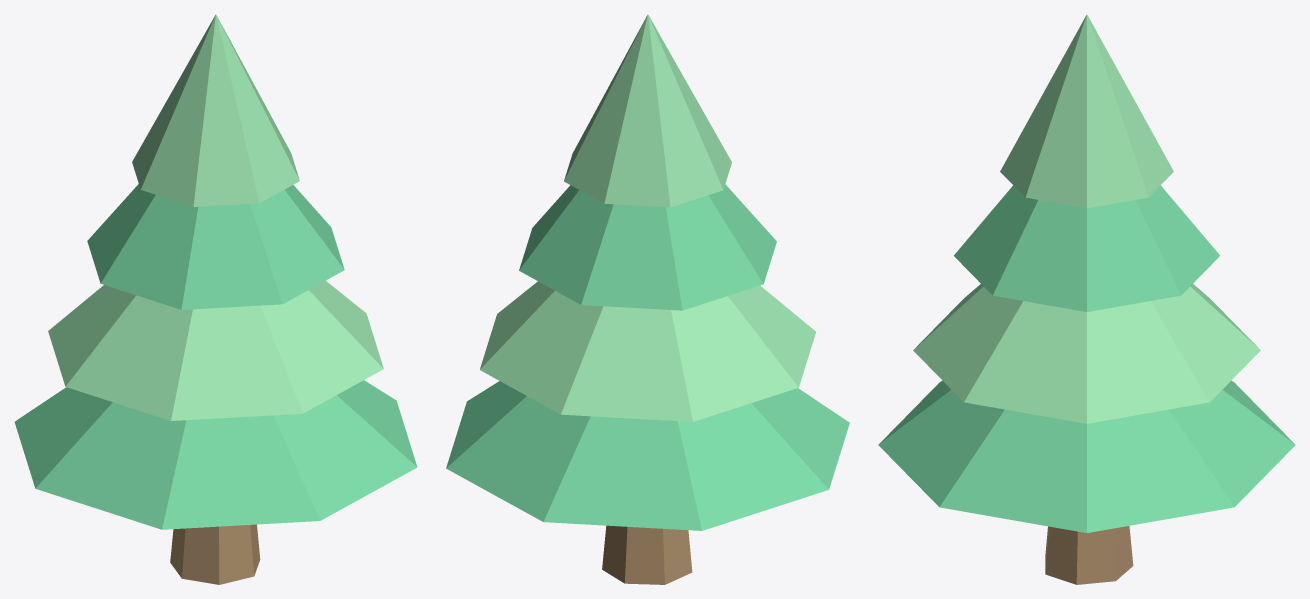
The model's file is CF_TreePine.fbx.
3 renders of one model, left to right at view 1: azimuth 30°, elevation 25°; view 2: azimuth 150°, elevation 25°; view 3: azimuth 270°, elevation 25°, orthographic.
Visible parts, largest first — view 1: CF_TreePine_Leaf, CF_TreePine_LeafLight, CF_TreePine_Bark; view 2: CF_TreePine_Leaf, CF_TreePine_LeafLight, CF_TreePine_Bark; view 3: CF_TreePine_Leaf, CF_TreePine_LeafLight, CF_TreePine_Bark.
Boxes of the visible parts, x1,y1,x2,y2 form: CF_TreePine_Leaf: (14,184,417,529); CF_TreePine_LeafLight: (48,14,383,420); CF_TreePine_Bark: (170,524,260,584); CF_TreePine_Leaf: (446,184,849,530); CF_TreePine_LeafLight: (480,14,815,421); CF_TreePine_Bark: (602,525,692,584); CF_TreePine_Leaf: (878,185,1295,532); CF_TreePine_LeafLight: (913,14,1260,423); CF_TreePine_Bark: (1045,526,1133,584).
Size of the model in its own units: 7.2 by 10.5 by 7.2.
